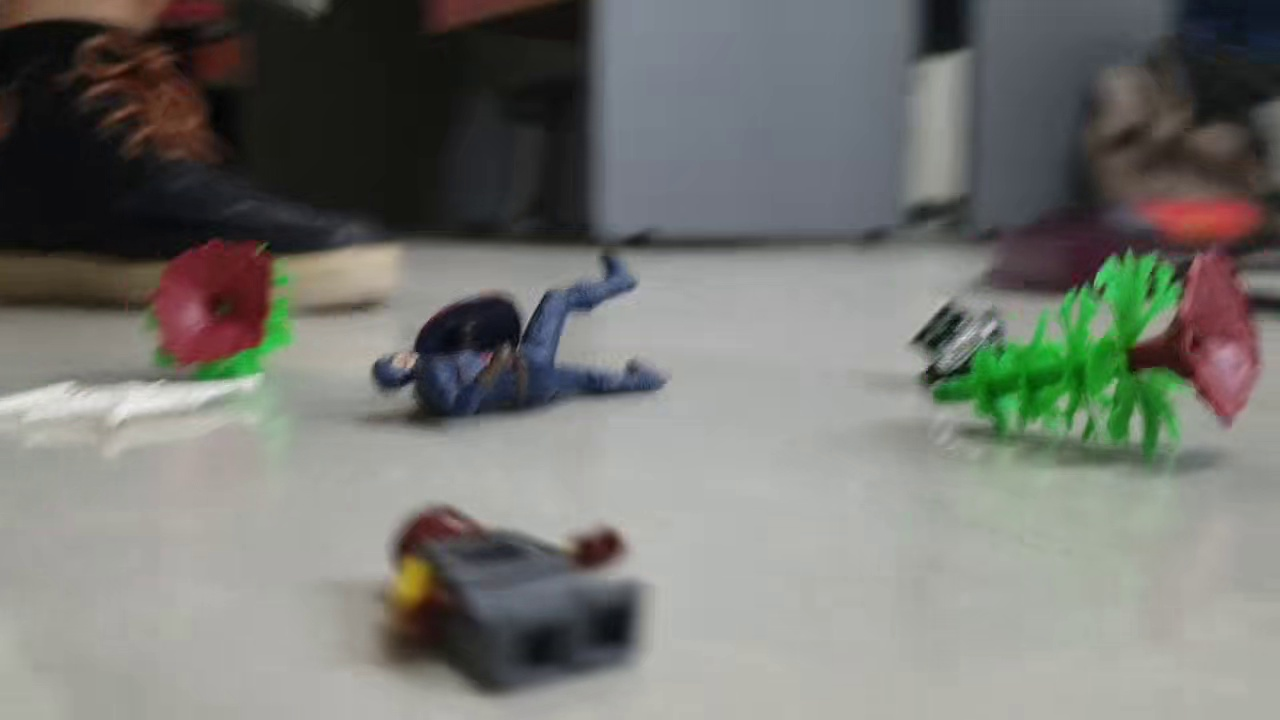people: (358, 489, 652, 695), (363, 244, 677, 426), (905, 296, 1025, 393)
tree: (928, 243, 1259, 471), (148, 233, 296, 382)
web: (1, 366, 269, 439)
